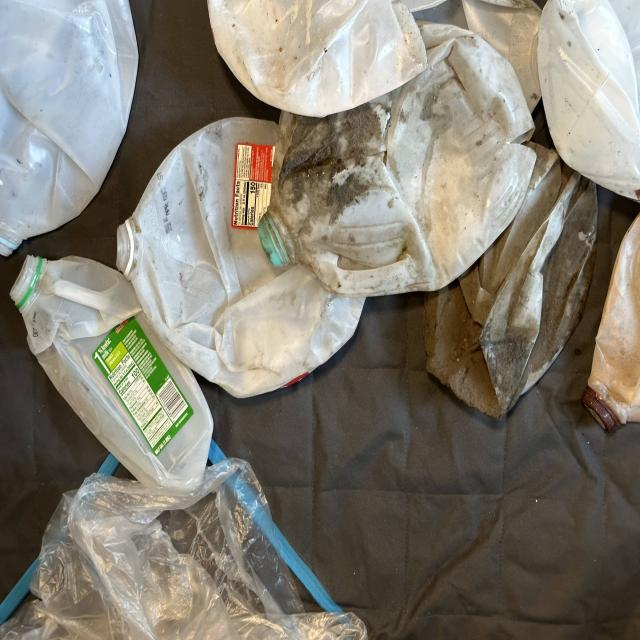milk-jug: (269, 14, 532, 288), (116, 117, 382, 382), (16, 248, 226, 519), (419, 135, 612, 420), (0, 0, 143, 278), (205, 0, 431, 109), (588, 200, 640, 439)
